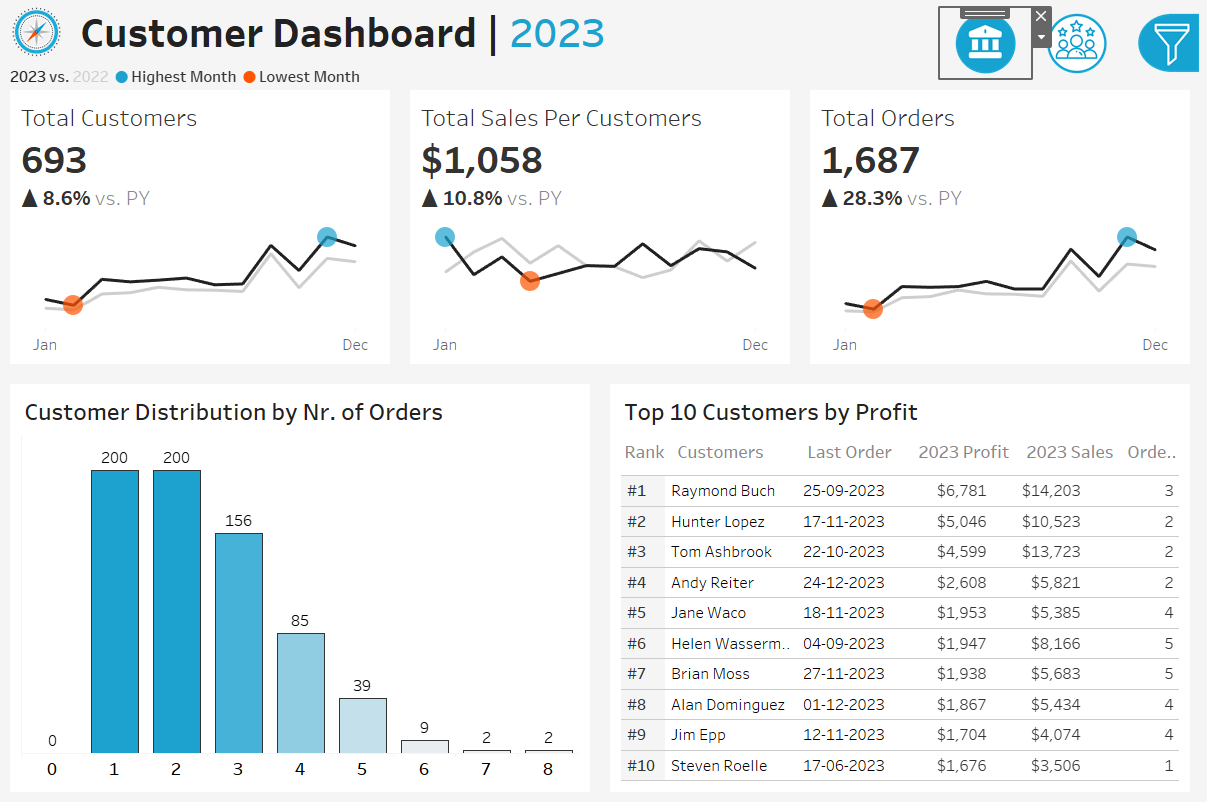

The page's visual inventory and layout, read from the dashboard file:
{"tool":"tableau","page":{"name":"Customer Dashboard","canvas":[1200,800],"ordinal":0},"visuals":[{"type":"image","param":"Image/Icon - Logo.png","box":[0,0,73,59]},{"type":"text","box":[73,0,820,59]},{"type":"dashboard-object","box":[940,6,91,70]},{"type":"dashboard-object","box":[1031,6,91,70]},{"type":"blank","box":[952,10,237,86]},{"type":"worksheet","title":"Legend KPI","mark":"Automatic","box":[0,59,1200,29]},{"type":"worksheet","title":"KPI Customers","mark":"Automatic","rows":["Min/Max Quantity (copy)_3221481164588691468"],"cols":["Order Date"],"box":[0,88,400,284]},{"type":"worksheet","title":"KPI Sales Per Customers","mark":"Automatic","rows":["Min/Max Quantity (copy)_3221481164537155591"],"cols":["Order Date"],"box":[400,88,400,284]},{"type":"worksheet","title":"KPI Orders","mark":"Automatic","rows":["Min/Max Sales (copy)_3221481164601258003"],"cols":["Order Date"],"box":[800,88,400,284]},{"type":"text","box":[952,96,237,40]},{"type":"parameter","param":"[Parameters].[Parameter 1]","box":[952,136,237,56]},{"type":"text","box":[952,192,237,33]},{"type":"filter","title":"KPI Customers","param":"[federated.1kpxa041aiai2y1cl4pui1t4eju9].[none:Category:nk]","box":[952,225,237,61]},{"type":"filter","title":"KPI Customers","param":"[federated.1kpxa041aiai2y1cl4pui1t4eju9].[none:Sub-Category:nk]","box":[952,286,237,61]},{"type":"blank","box":[952,347,237,60]},{"type":"text","box":[17,389,566,40]},{"type":"text","box":[617,389,566,40]},{"type":"text","box":[952,407,237,33]},{"type":"worksheet","title":"Customer Distribution","mark":"Bar","rows":["CY Sales (copy)_3221481164532666369"],"cols":["Calculation_998110323739992064"],"box":[17,429,566,354]},{"type":"text","box":[617,429,53,40]},{"type":"text","box":[670,429,130,40]},{"type":"text","box":[800,429,111,40]},{"type":"text","box":[911,429,108,40]},{"type":"text","box":[1019,429,101,40]},{"type":"text","box":[1120,429,63,40]},{"type":"filter","title":"KPI Customers","param":"[federated.1kpxa041aiai2y1cl4pui1t4eju9].[none:Region:nk]","box":[952,440,237,61]},{"type":"worksheet","title":"Top Customers","mark":"Automatic","rows":["Calculation_782500491678904334","Customer Name","Order Date"],"box":[617,469,566,314]},{"type":"filter","title":"KPI Customers","param":"[federated.1kpxa041aiai2y1cl4pui1t4eju9].[none:State:nk]","box":[952,501,237,61]},{"type":"filter","title":"KPI Customers","param":"[federated.1kpxa041aiai2y1cl4pui1t4eju9].[none:City:nk]","box":[952,562,237,61]}]}

Visuals, with their boxes in screenshot pixels (x1, y1, x2, y2), scaled from the page's 1200x800 canvas onto the 1207x802 screenshot:
image: crop(0, 0, 73, 59)
text: crop(73, 0, 898, 59)
dashboard-object: crop(945, 6, 1037, 76)
dashboard-object: crop(1037, 6, 1129, 76)
blank: crop(958, 10, 1196, 96)
"Legend KPI" worksheet: crop(0, 59, 1206, 88)
"KPI Customers" worksheet: crop(0, 88, 402, 373)
"KPI Sales Per Customers" worksheet: crop(402, 88, 805, 373)
"KPI Orders" worksheet: crop(805, 88, 1206, 373)
text: crop(958, 96, 1196, 136)
parameter: crop(958, 136, 1196, 192)
text: crop(958, 192, 1196, 226)
"KPI Customers" filter: crop(958, 226, 1196, 287)
"KPI Customers" filter: crop(958, 287, 1196, 348)
blank: crop(958, 348, 1196, 408)
text: crop(17, 390, 586, 430)
text: crop(621, 390, 1190, 430)
text: crop(958, 408, 1196, 441)
"Customer Distribution" worksheet (Bar marks): crop(17, 430, 586, 785)
text: crop(621, 430, 674, 470)
text: crop(674, 430, 805, 470)
text: crop(805, 430, 916, 470)
text: crop(916, 430, 1025, 470)
text: crop(1025, 430, 1127, 470)
text: crop(1127, 430, 1190, 470)
"KPI Customers" filter: crop(958, 441, 1196, 502)
"Top Customers" worksheet: crop(621, 470, 1190, 785)
"KPI Customers" filter: crop(958, 502, 1196, 563)
"KPI Customers" filter: crop(958, 563, 1196, 625)
